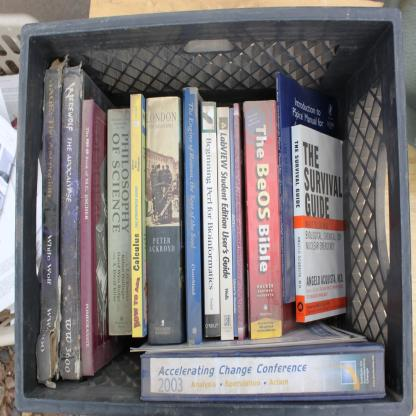book: (273, 81, 362, 342), (140, 316, 388, 406), (60, 60, 114, 381), (79, 98, 132, 378), (245, 97, 300, 340), (40, 52, 70, 387), (144, 94, 184, 342), (106, 106, 130, 340), (182, 87, 203, 349), (129, 92, 147, 340), (202, 99, 218, 338), (218, 102, 232, 336), (234, 105, 246, 339)
